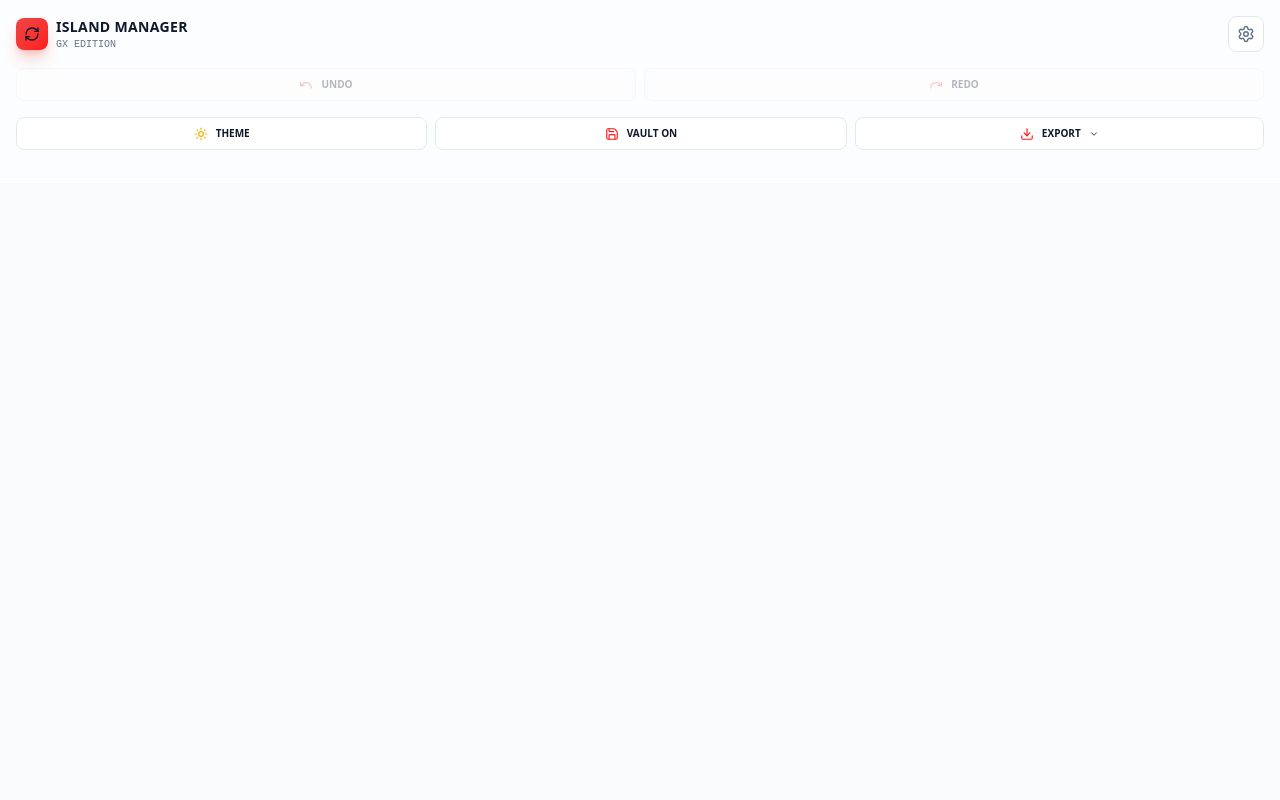
Test case: Sidebar › Export Functionality › should show export dropdown when clicked
Click the button "Export".
click(1059, 134)  # box [855,117,1264,150]
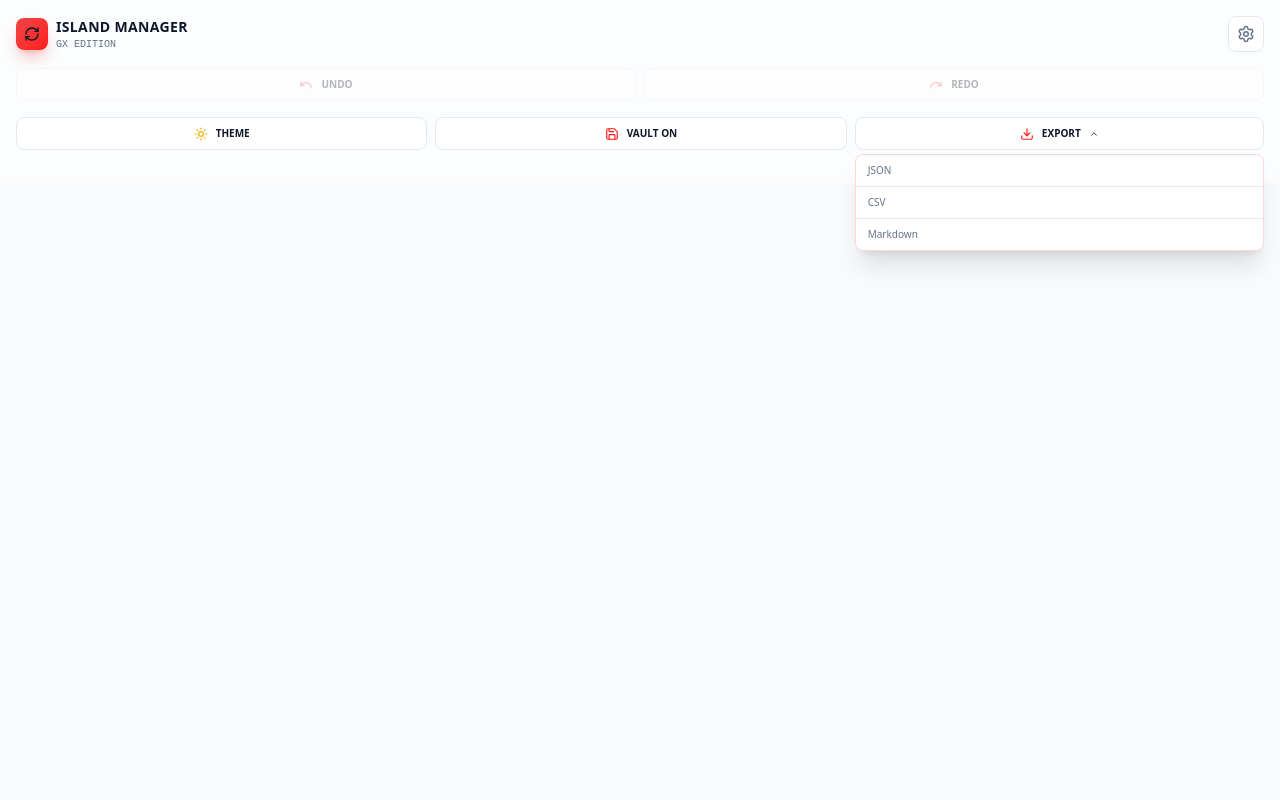
expect the button "JSON" is shown: met, box [856,155,1263,186]
expect the button "CSV" is shown: met, box [856,186,1263,218]
expect the button "Markdown" is shown: met, box [856,218,1263,250]
